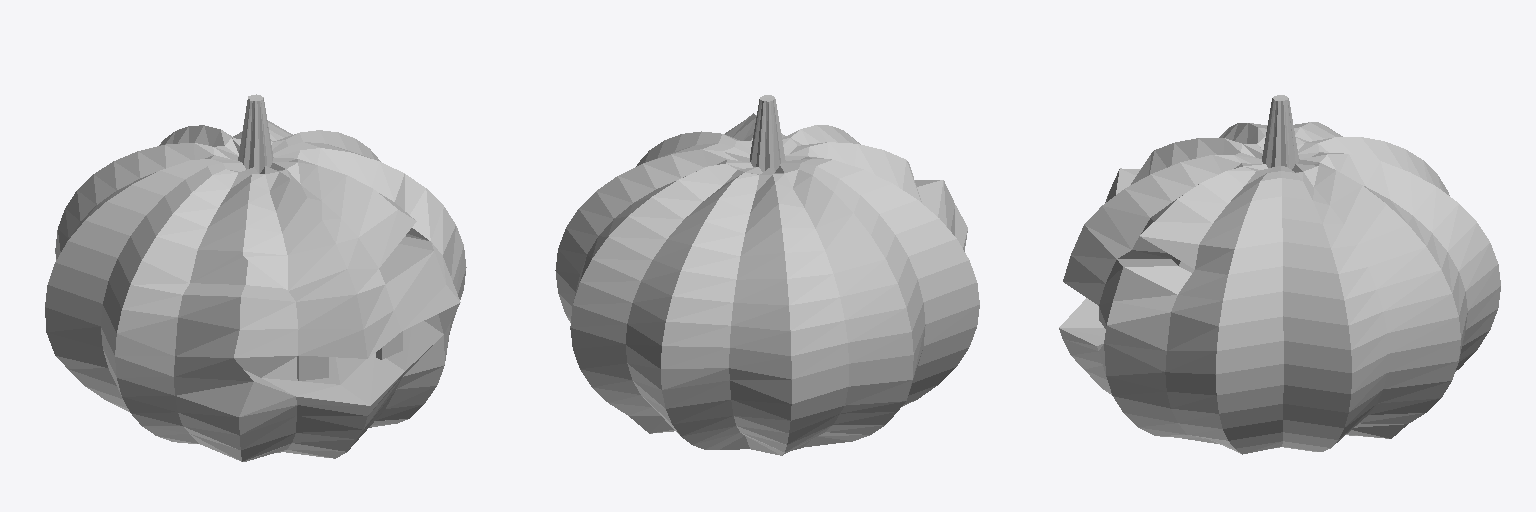
The model's file is pumpkin2.obj.
3 views of the same model, side by side, from view 1: azimuth 30°, elevation 25°; view 2: azimuth 150°, elevation 25°; view 3: azimuth 270°, elevation 25° (orthographic).
Parts seen in each view (by area): view 1: pumpkin_smile:pSphere2; view 2: pumpkin_smile:pSphere2; view 3: pumpkin_smile:pSphere2.
Part boxes in pixels (x1,y1,x2,y2): pumpkin_smile:pSphere2: (45, 94, 466, 461); pumpkin_smile:pSphere2: (555, 95, 979, 455); pumpkin_smile:pSphere2: (1059, 95, 1500, 454).
Size of the model in its own units: 1.2 by 1.01 by 1.28.